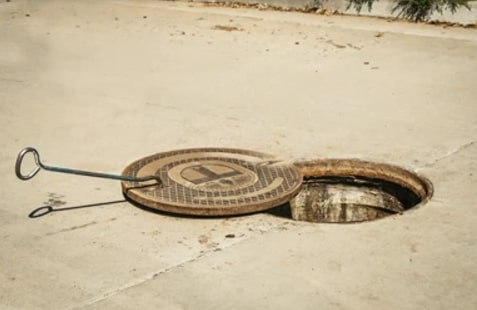open_manhole: (251, 149, 440, 221)
